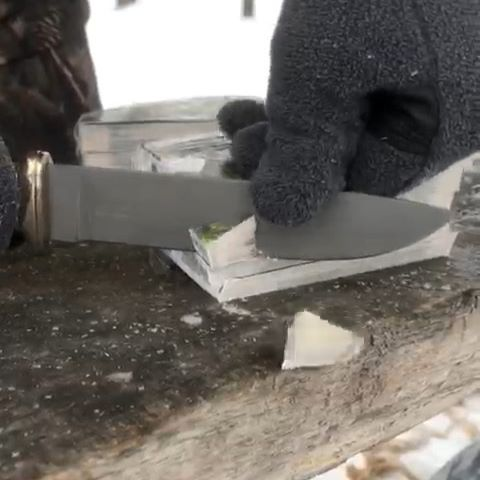knife: (17, 152, 459, 258)
